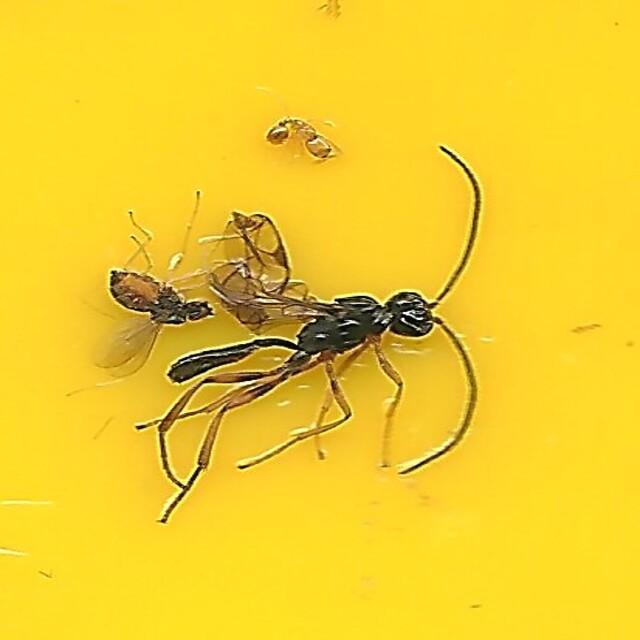Hymenoptera: (155, 151, 485, 525), (260, 115, 346, 167)
